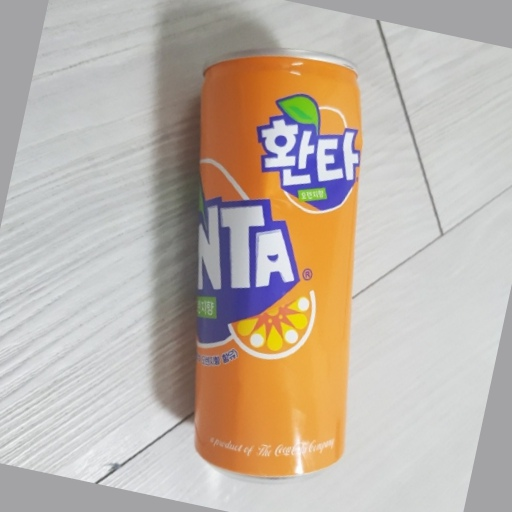Metal_0: (181, 48, 363, 477)
